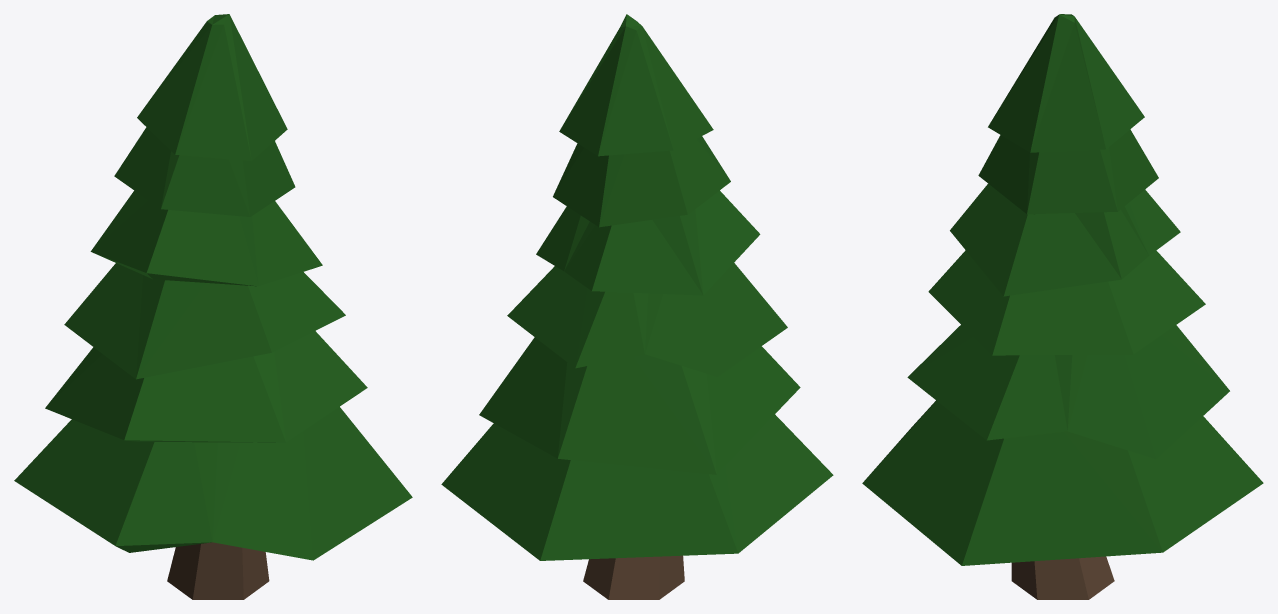
Rendered from pine1.glb.
3 views of the same model, side by side, from view 1: azimuth 30°, elevation 25°; view 2: azimuth 150°, elevation 25°; view 3: azimuth 270°, elevation 25° (orthographic).
Visible parts, largest first — view 1: Leaves.003, Trunk.003; view 2: Leaves.003, Trunk.003; view 3: Leaves.003, Trunk.003.
Boxes of the visible parts, x1,y1,x2,y2 form: Leaves.003: (14, 14, 412, 560); Trunk.003: (167, 542, 269, 599); Leaves.003: (441, 14, 833, 560); Trunk.003: (583, 555, 684, 599); Leaves.003: (862, 14, 1263, 565); Trunk.003: (1011, 556, 1114, 599).
Size of the model in its own units: 2.98 by 5.39 by 3.44.
